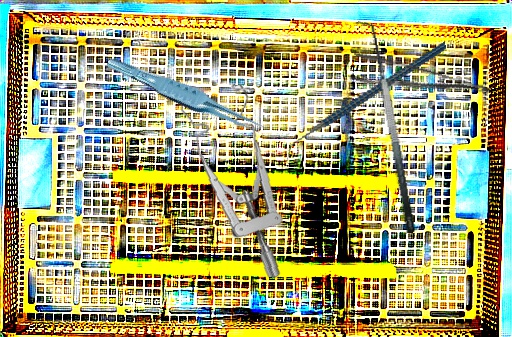Chopper: (268, 42, 464, 162)
Dressing Forceps: (347, 49, 492, 117)
Spatula Surgical: (354, 17, 417, 237)
Speculum: (170, 80, 294, 279)
Tissue Forceps: (105, 46, 269, 148)
